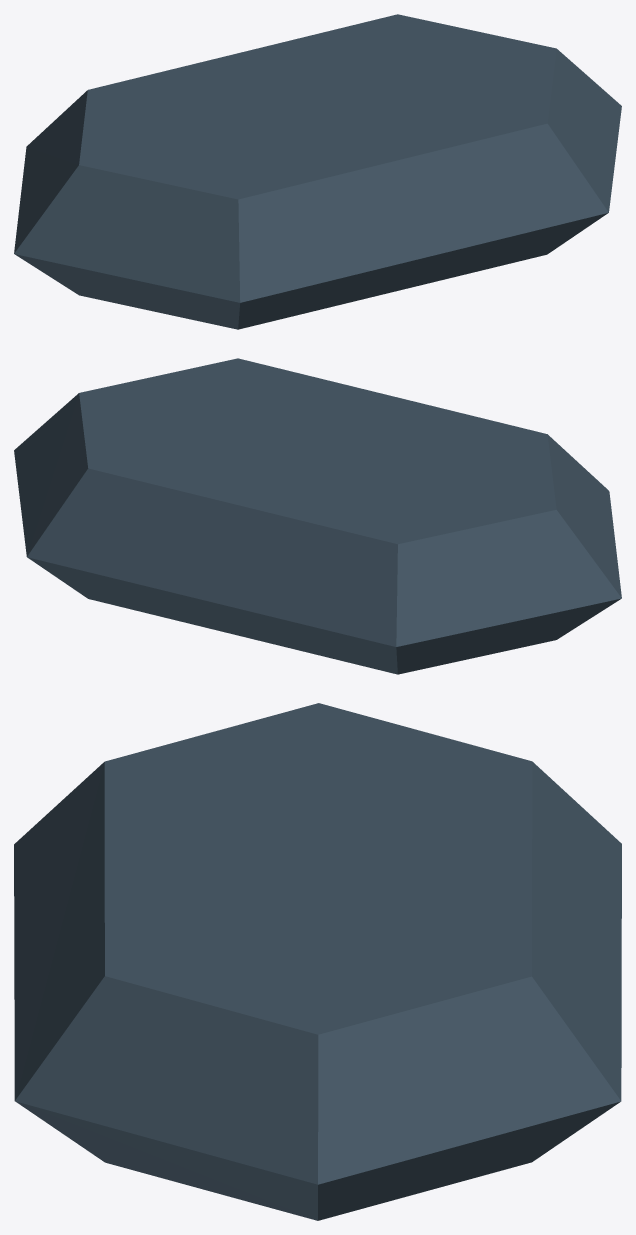
The model's file is SFFA_Rupee.fbx.
The picture shows the model from 3 angles, top to bottom: view 1: azimuth 30°, elevation 25°; view 2: azimuth 150°, elevation 25°; view 3: azimuth 270°, elevation 25°; orthographic projection. The views are drawn at different scales.
Parts seen in each view (by area): view 1: SFFA_Rupee; view 2: SFFA_Rupee; view 3: SFFA_Rupee.
Part boxes in pixels (x1,y1,x2,y2): SFFA_Rupee: (14,14,621,329); SFFA_Rupee: (14,358,621,674); SFFA_Rupee: (14,703,621,1220).
Size of the model in its own units: 4.76 by 0.9805 by 2.89.
